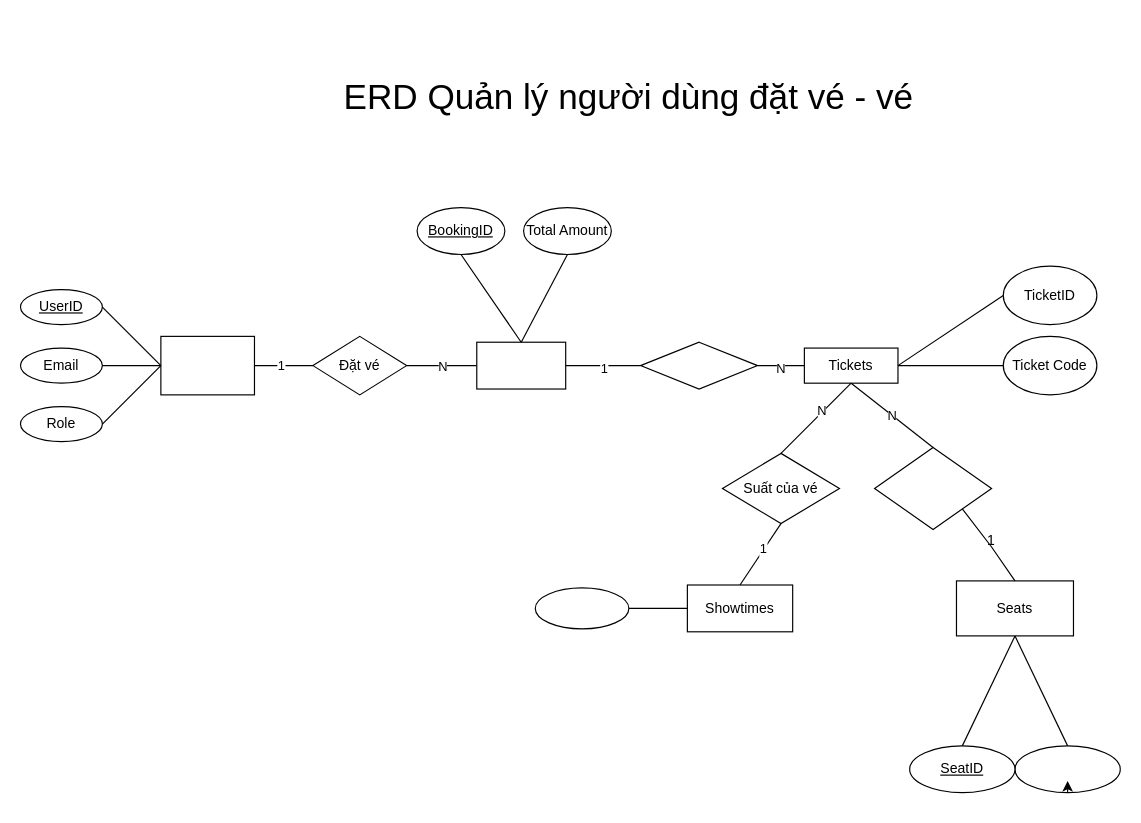
The diagram is 1141 pixels wide and 823 high, and some of its shapes have lost their labels. The shapes that lost their labels are listed below. From the top down, each one's centre as x and y in pixels, then its label:
[207,365]: Users
[521,365]: Bookings
[698,365]: vé?
[932,487]: Vé của ghế
[581,608]: ShowtimeID
[1067,769]: SeatNumber
